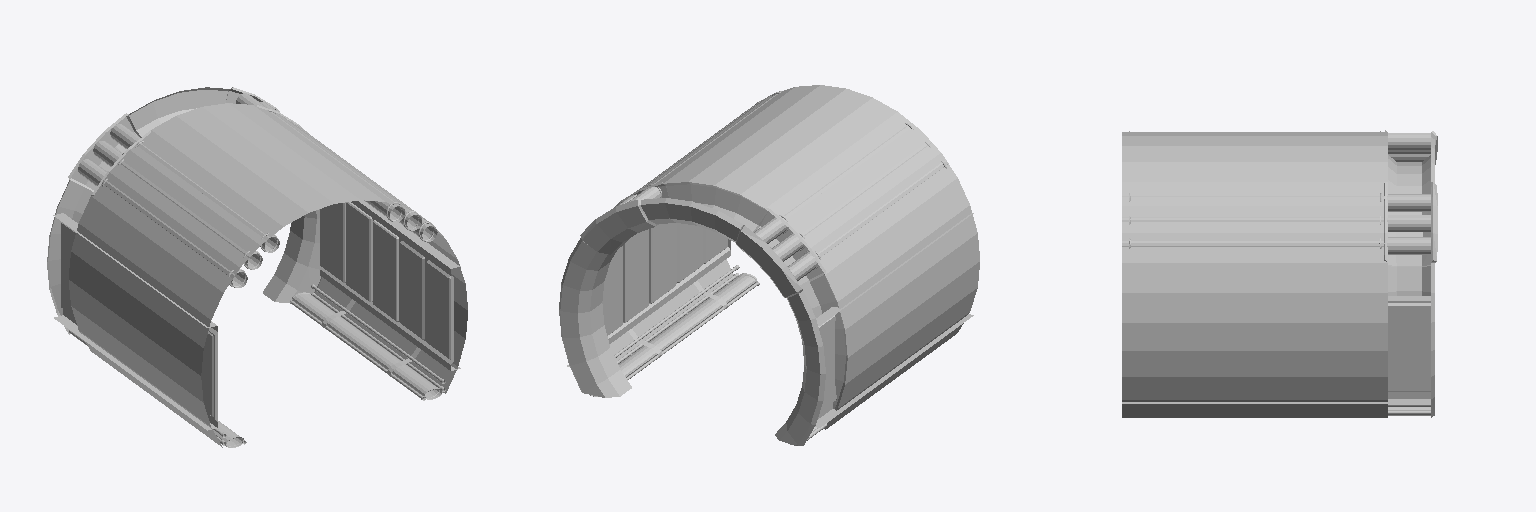
Rendered from Hallway_Wall_02.obj.
3 views of the same model, side by side, from view 1: azimuth 30°, elevation 25°; view 2: azimuth 150°, elevation 25°; view 3: azimuth 270°, elevation 25° (orthographic).
Parts seen in each view (by area): view 1: Wall_02 Wall, Wall_02 Plates1, Wall_02 Plate2, Wall_02 Pipes1, Wall_02 Pipes2; view 2: Wall_02 Wall, Wall_02 Plates1, Wall_02 Pipes1, Wall_02 Pipes2, Wall_02 Plate2; view 3: Wall_02 Wall, Wall_02 Pipes1, Wall_02 Plate2, Wall_02 Light.
Part boxes in pixels (x1,y1,x2,y2): Wall_02 Wall: (47,87,467,447); Wall_02 Plates1: (201,202,450,416); Wall_02 Plate2: (53,200,460,430); Wall_02 Pipes1: (78,93,437,287); Wall_02 Pipes2: (69,284,445,447); Wall_02 Wall: (559,85,979,445); Wall_02 Plates1: (602,223,836,399); Wall_02 Pipes1: (618,91,948,280); Wall_02 Pipes2: (590,265,826,445); Wall_02 Plate2: (567,213,973,427); Wall_02 Wall: (1122,130,1437,417); Wall_02 Pipes1: (1122,133,1430,254); Wall_02 Plate2: (1122,296,1430,403); Wall_02 Light: (1397,162,1421,193).
Size of the model in its own units: 100 by 78.5 by 102.